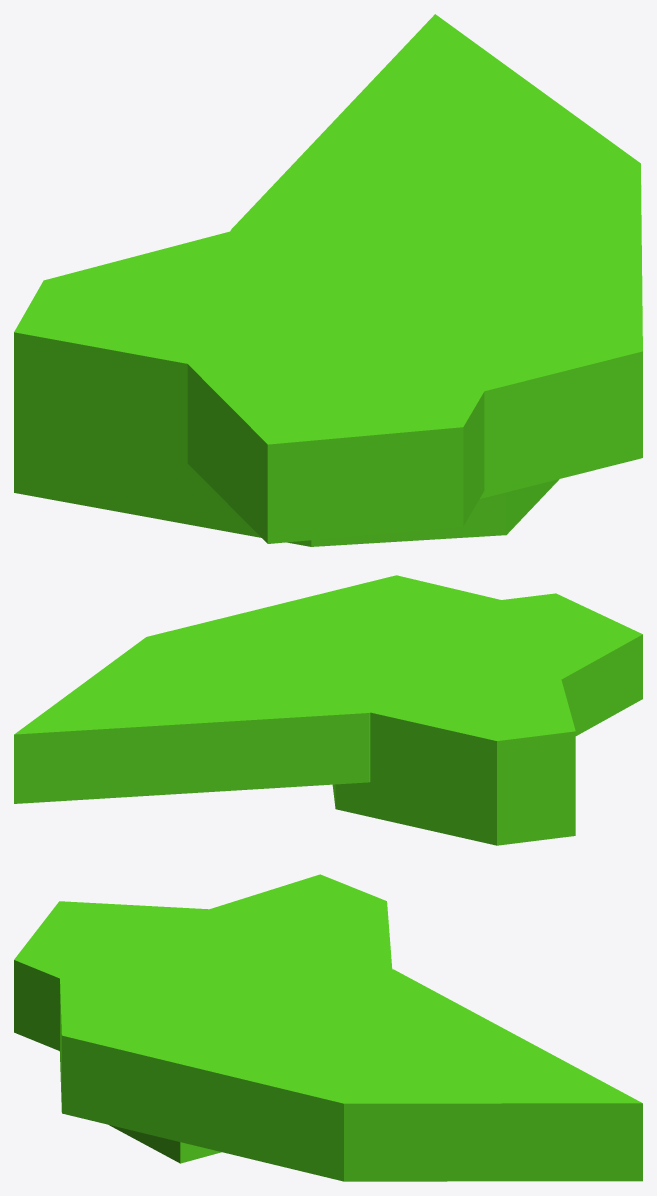
3 renders of one model, top to bottom at view 1: azimuth 30°, elevation 25°; view 2: azimuth 150°, elevation 25°; view 3: azimuth 270°, elevation 25°, orthographic. The views are drawn at different scales.
Parts seen in each view (by area): view 1: 岛1, 岛3, 岛2; view 2: 岛1, 岛3, 岛2; view 3: 岛1, 岛2, 岛3.
Boxes of the visible parts, <box> form: 岛1: <box>230,14,642,498</box>; 岛3: <box>14,220,591,546</box>; 岛2: <box>122,197,515,543</box>; 岛1: <box>14,575,595,803</box>; 岛3: <box>324,600,575,845</box>; 岛2: <box>232,593,642,735</box>; 岛1: <box>59,915,642,1181</box>; 岛2: <box>14,901,387,1050</box>; 岛3: <box>78,874,392,1163</box>.
Size of the model in its own units: 2989 by 713 by 3464.
